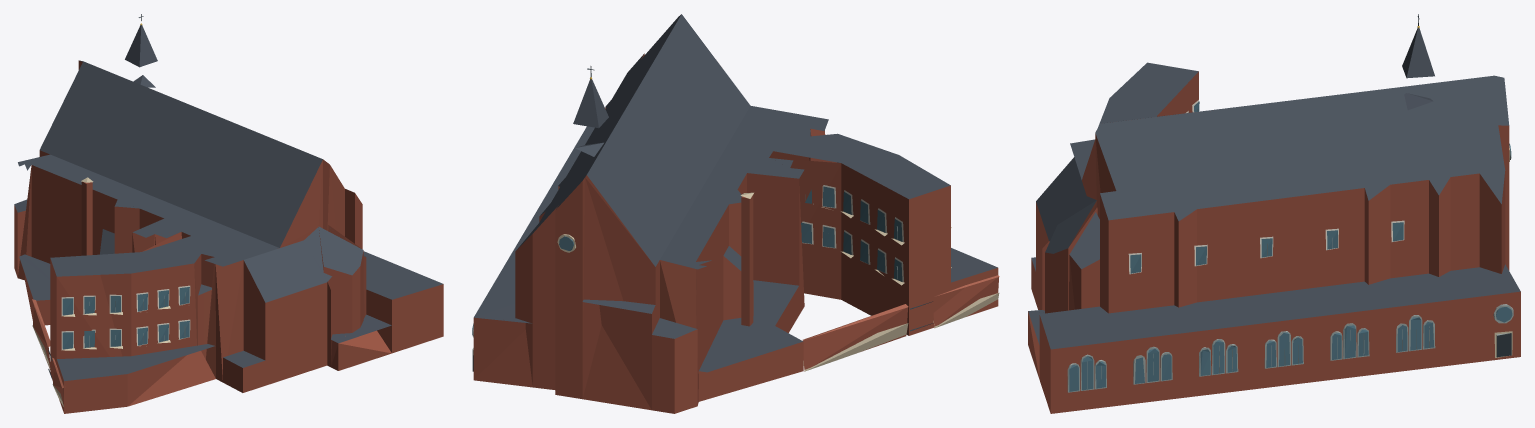
Rendered from nikolaas-myrakerk.lod1.glb.
The picture shows the model from 3 angles, left to right: view 1: azimuth 30°, elevation 25°; view 2: azimuth 150°, elevation 25°; view 3: azimuth 270°, elevation 25°; orthographic projection. The views are drawn at different scales.
Visible parts, largest first — view 1: nikolaas-myrakerk; view 2: nikolaas-myrakerk; view 3: nikolaas-myrakerk.
Part boxes in pixels (<box>): nikolaas-myrakerk: <box>14,14,443,413</box>; nikolaas-myrakerk: <box>472,14,999,413</box>; nikolaas-myrakerk: <box>1028,14,1520,413</box>.
Size of the model in its own units: 41.7 by 27.26 by 39.54.
